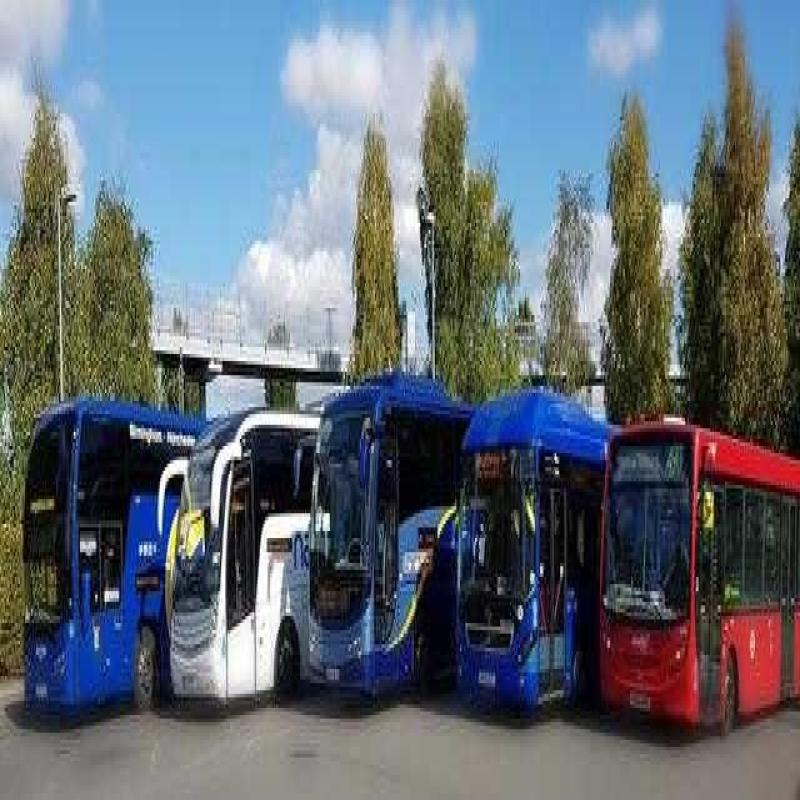bus: (168, 366, 294, 721), (591, 403, 716, 753), (455, 381, 565, 756), (27, 390, 140, 740), (317, 363, 426, 716)
